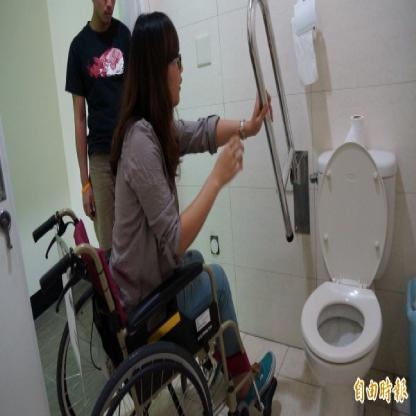wheelchair: (33, 12, 277, 415)
